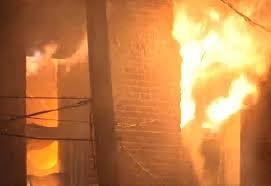fire: (174, 2, 267, 131)
